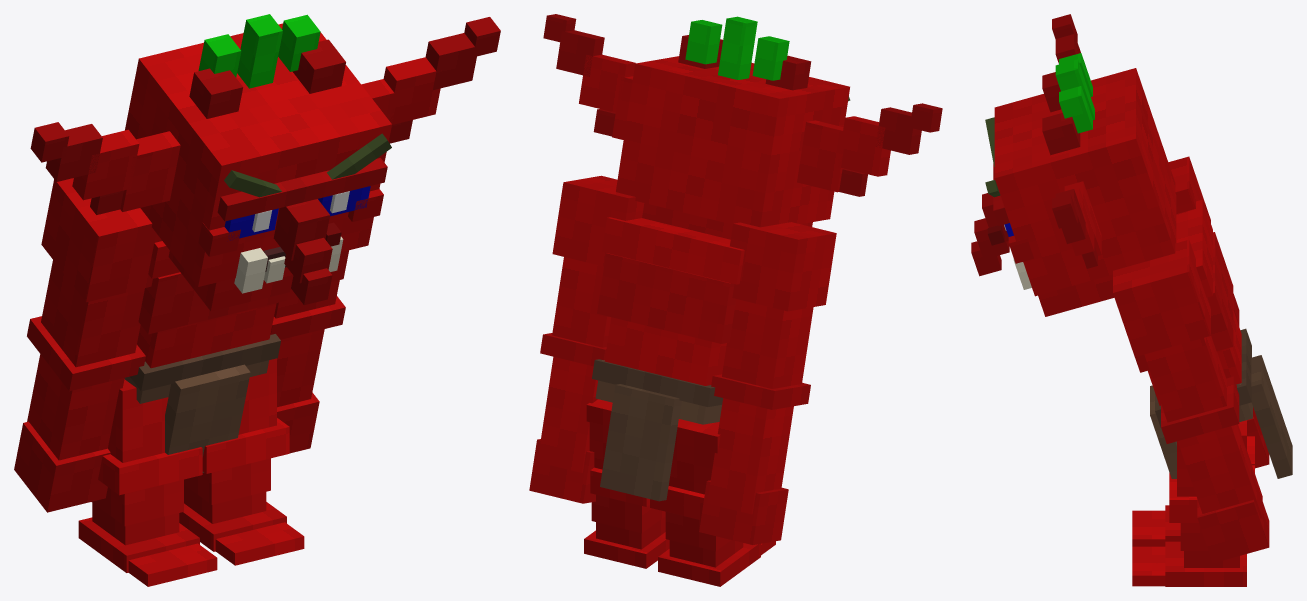
The model's file is goblin_s2.glb.
3 views of the same model, side by side, from view 1: azimuth 30°, elevation 25°; view 2: azimuth 150°, elevation 25°; view 3: azimuth 270°, elevation 25° (orthographic). The views are drawn at different scales.
Parts seen in each view (by area): view 1: Head, ArmR, Torso, LegR, LegL, ArmL; view 2: Head, Torso, ArmR, ArmL, LegR, LegL; view 3: Head, ArmL, Torso, LegL, ArmR, LegR.
Boxes of the visible parts, x1,y1,x2,y2 form: Head: (30, 14, 500, 311); ArmR: (14, 178, 161, 512); Torso: (124, 241, 295, 472); LegR: (78, 379, 217, 586); LegL: (179, 358, 304, 565); ArmL: (270, 280, 345, 453); Head: (543, 14, 942, 239); Torso: (592, 217, 744, 501); ArmR: (699, 222, 836, 544); ArmL: (529, 175, 644, 503); LegR: (650, 419, 775, 586); LegL: (584, 399, 669, 568); Head: (971, 14, 1176, 316); ArmL: (1113, 239, 1269, 563); Torso: (1135, 199, 1292, 478); LegL: (1132, 420, 1254, 586); ArmR: (1168, 156, 1269, 468); LegR: (1132, 436, 1254, 546).
Bounding box in the file's own units: 1.09 × 1.32 × 0.7835.
Materials: 23 (23 with a texture image).
